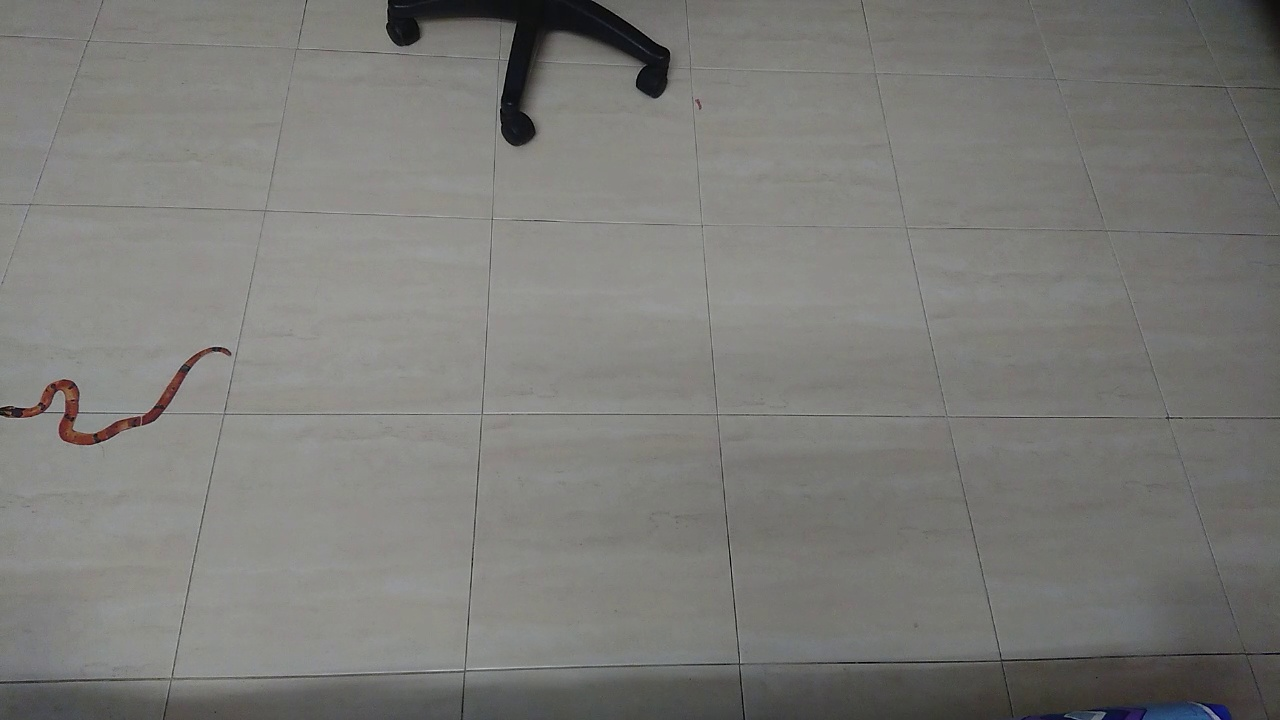snake: (1, 319, 255, 456)
